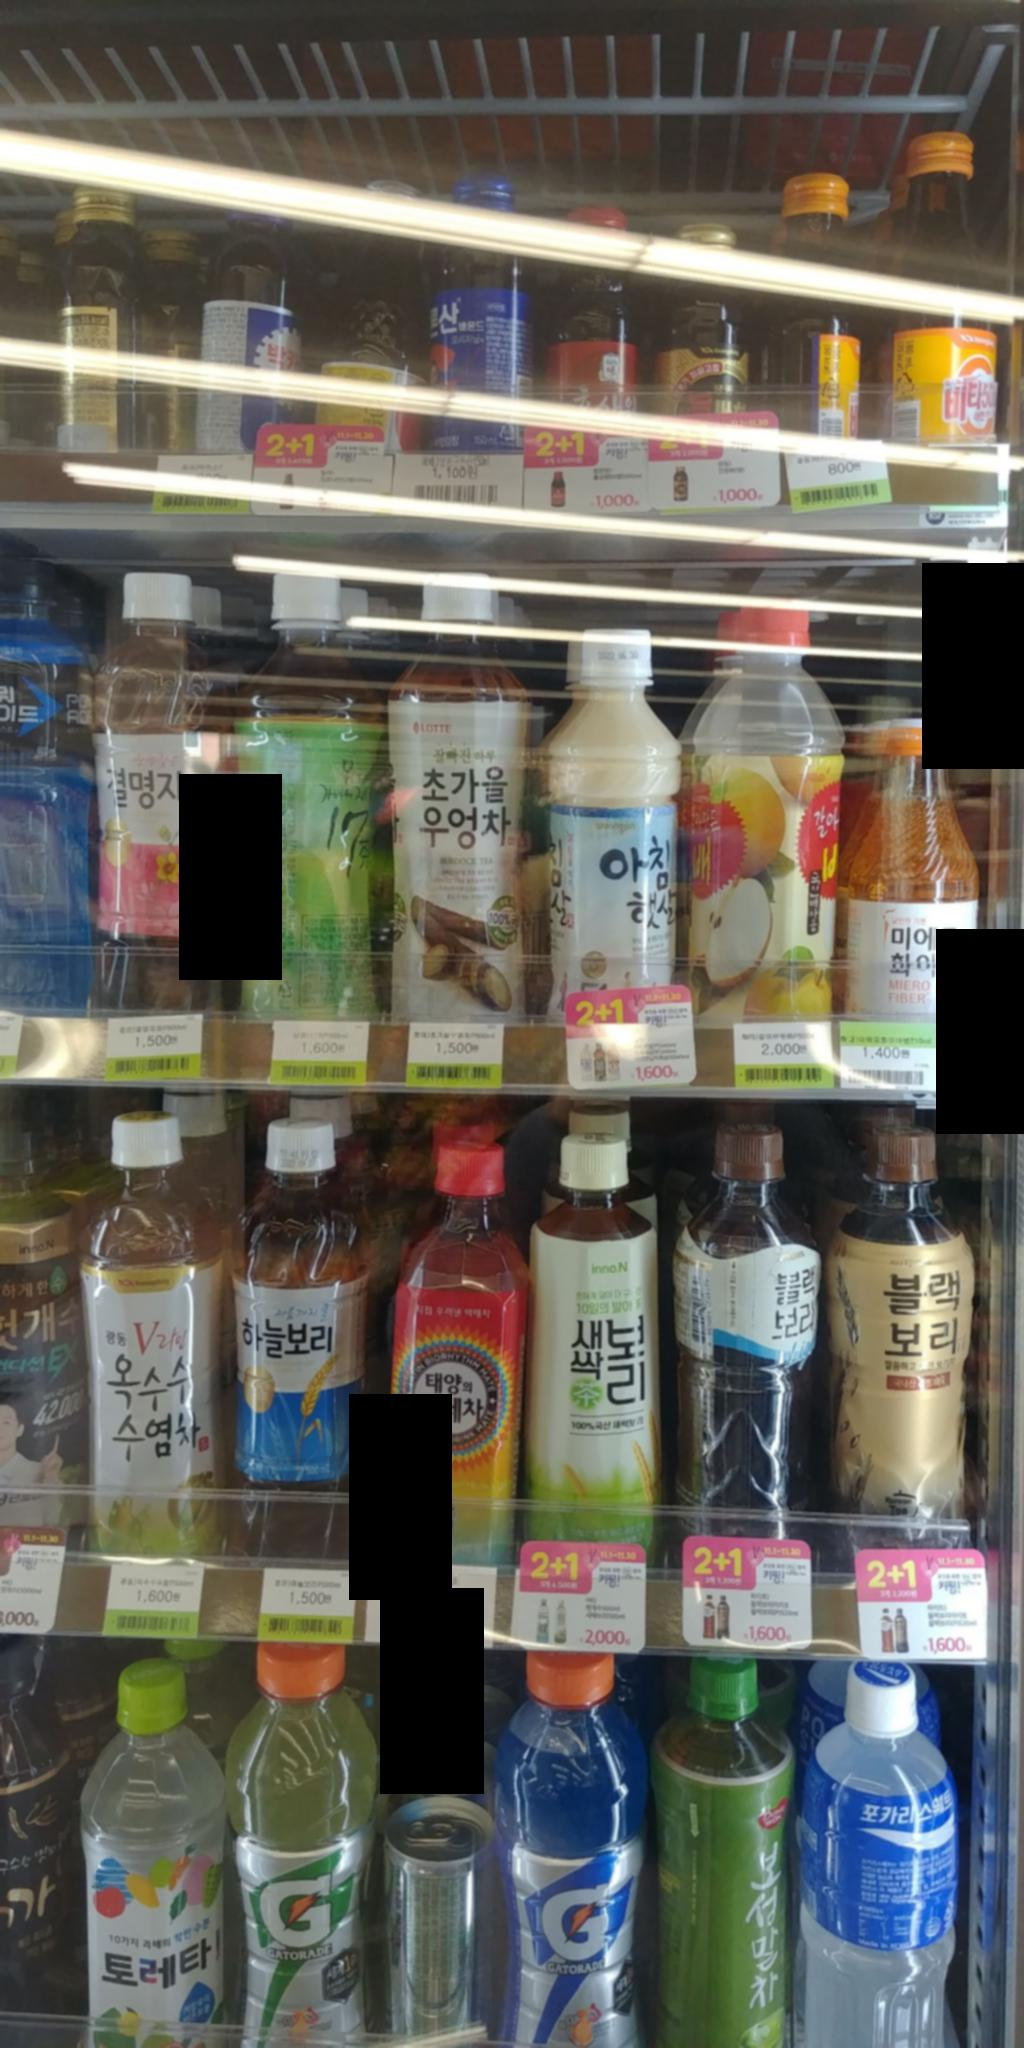gatorade_lemon: (225, 1640, 362, 2048)
haneulbori: (239, 1114, 380, 1566)
pocarisweat: (810, 1659, 957, 2047)
powerade_mountainblast: (0, 546, 99, 1006)
toreta: (76, 1665, 222, 2047)
